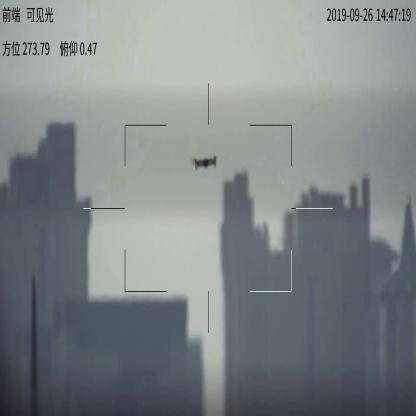uav: (189, 154, 219, 174)
